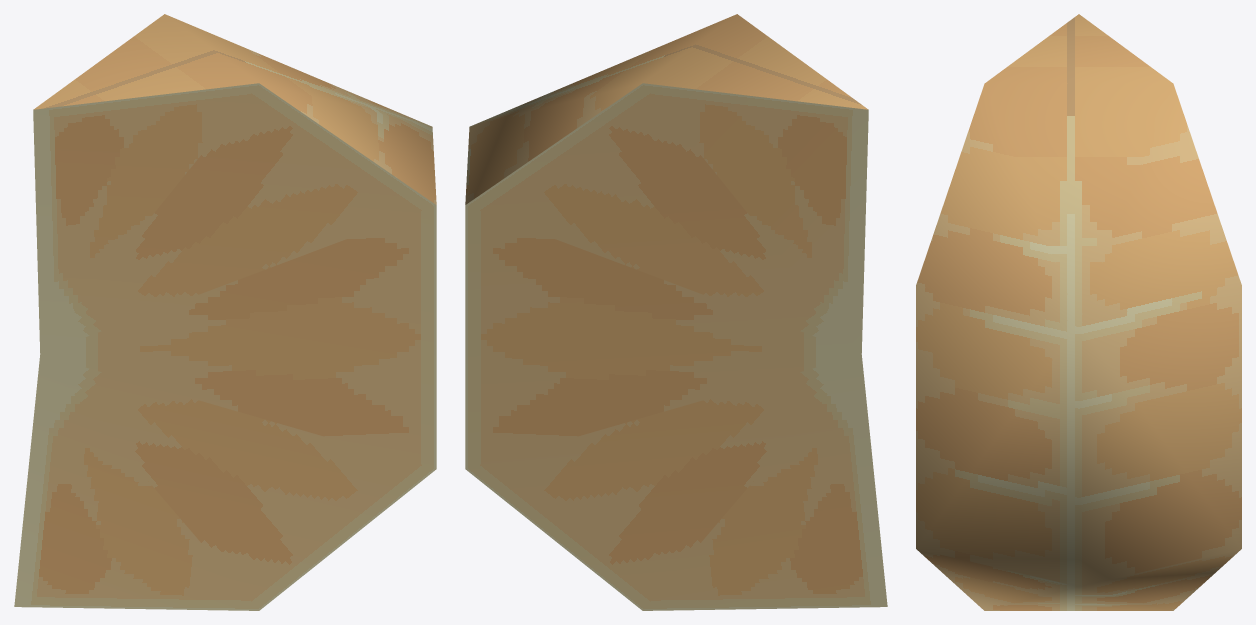
The model's file is 0533_Mandarin_Piece.glb.
3 renders of one model, left to right at view 1: azimuth 30°, elevation 25°; view 2: azimuth 150°, elevation 25°; view 3: azimuth 270°, elevation 25°, orthographic.
Parts seen in each view (by area): view 1: part_0; view 2: part_0; view 3: part_0.
Boxes of the visible parts, x1,y1,x2,y2 form: part_0: [14, 14, 436, 610]; part_0: [465, 14, 887, 610]; part_0: [916, 14, 1241, 610].
Bounding box in the file's own units: 0.0296 × 0.0357 × 0.02.
Materials: 1 (1 with a texture image).
